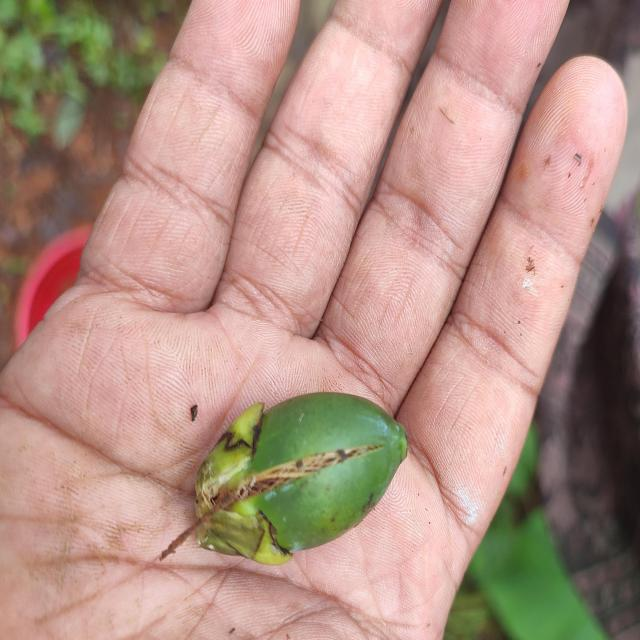damaged: (192, 391, 409, 570)
